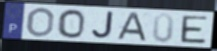0: (151, 12, 176, 44)
A: (114, 11, 149, 43)
E: (180, 15, 210, 45)
J: (90, 11, 115, 40)
O: (25, 7, 56, 38), (57, 8, 86, 39)
